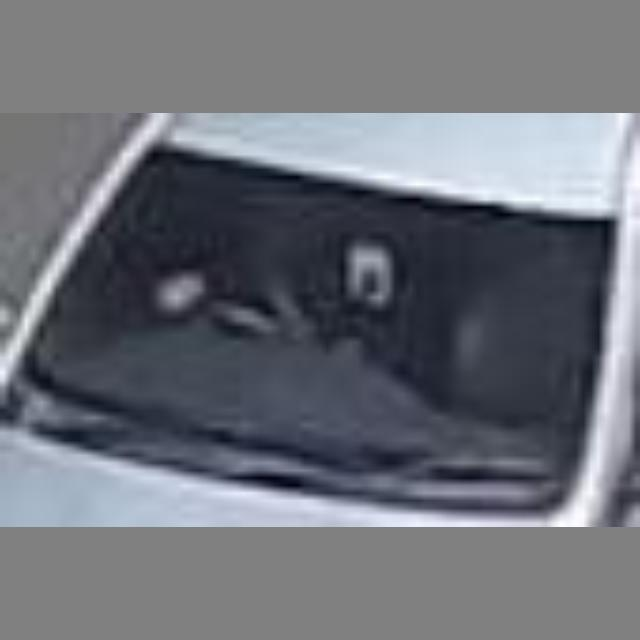pakai: (143, 196, 407, 384)
